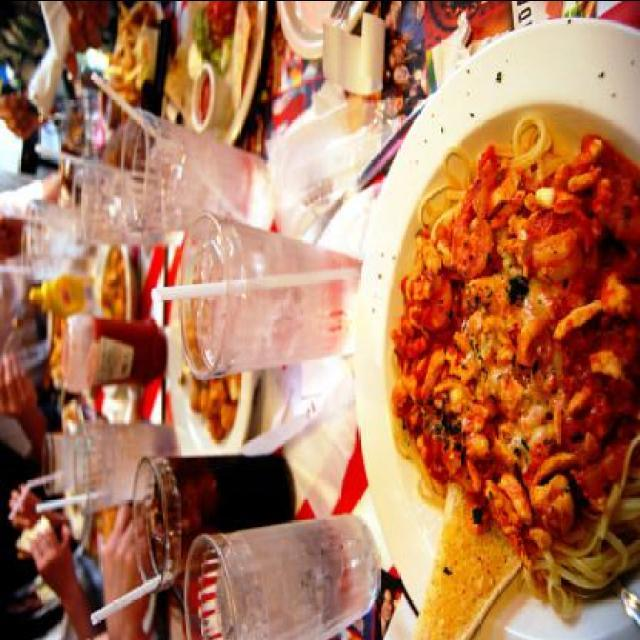Juice: (178, 207, 356, 387), (218, 512, 376, 640), (148, 453, 292, 585), (168, 117, 244, 225), (96, 419, 180, 507), (114, 172, 170, 246), (53, 432, 75, 494)
